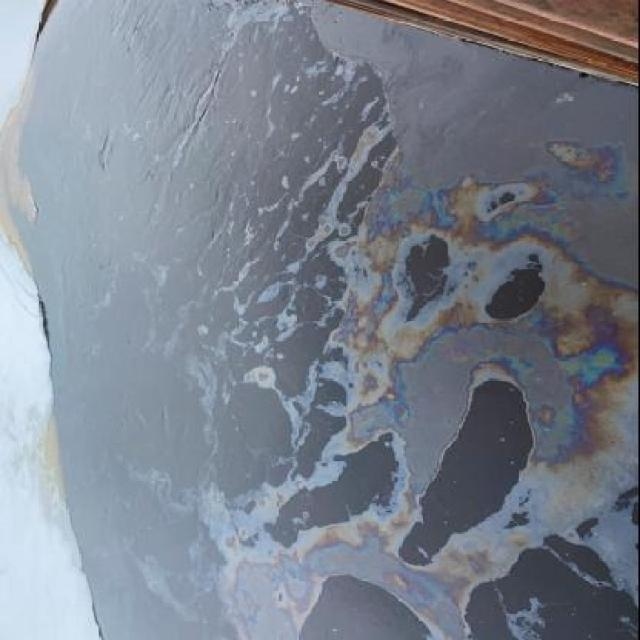sheen: (203, 3, 638, 640)
